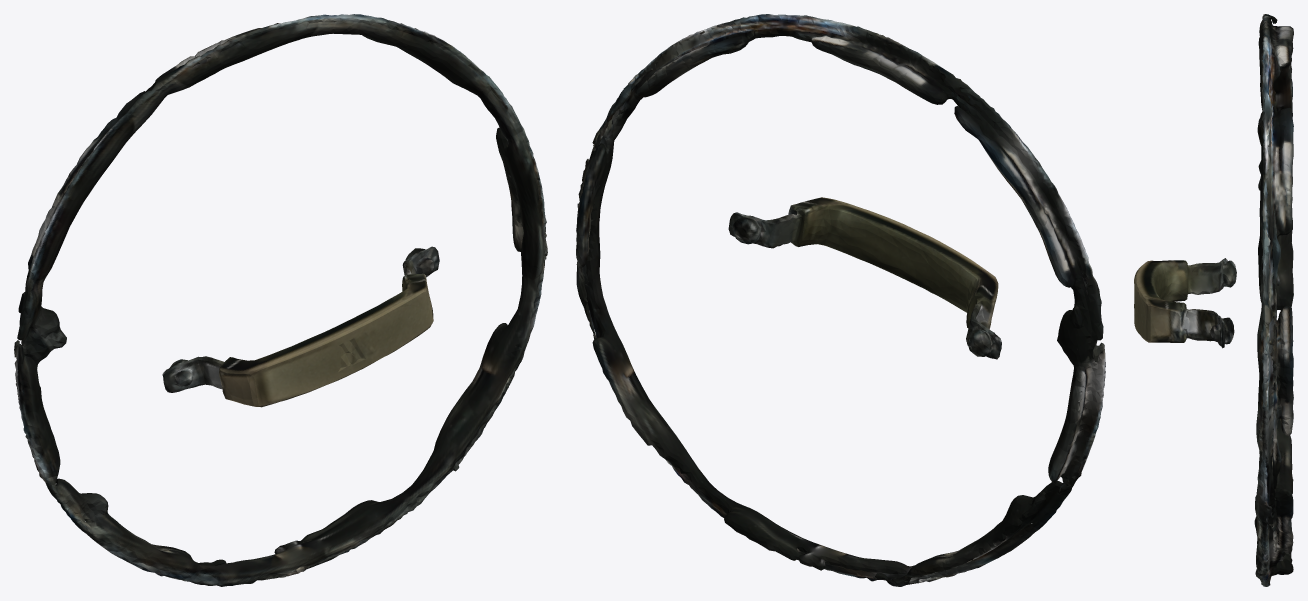
Rendered from skillet_lid.glb.
The picture shows the model from 3 angles, left to right: view 1: azimuth 30°, elevation 25°; view 2: azimuth 150°, elevation 25°; view 3: azimuth 270°, elevation 25°; orthographic projection. The views are drawn at different scales.
Parts seen in each view (by area): view 1: textured.obj; view 2: textured.obj; view 3: textured.obj.
Part boxes in pixels (bbox=[...]): textured.obj: bbox=[14, 14, 547, 586]; textured.obj: bbox=[576, 14, 1105, 586]; textured.obj: bbox=[1134, 14, 1293, 586].
Bounding box in the file's own units: 0.2679 × 0.2676 × 0.0749.
1 material, 1 textured.
